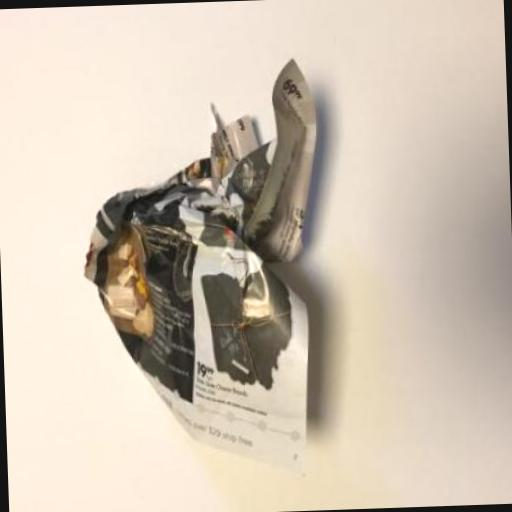paper: (75, 56, 328, 480)
